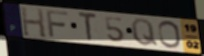5: (104, 15, 126, 43)
F: (45, 9, 70, 39)
H: (20, 6, 48, 39)
O: (157, 20, 183, 50)
Q: (130, 17, 159, 48)
T: (77, 11, 99, 43)
